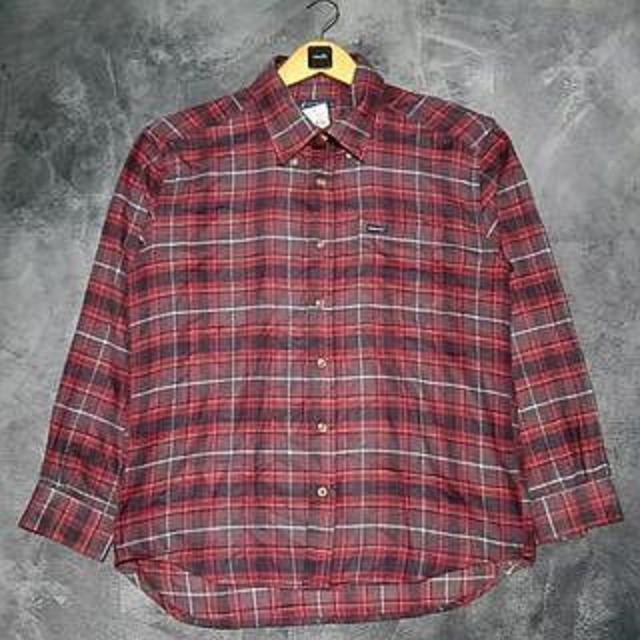SHIRT: (14, 39, 630, 638)
